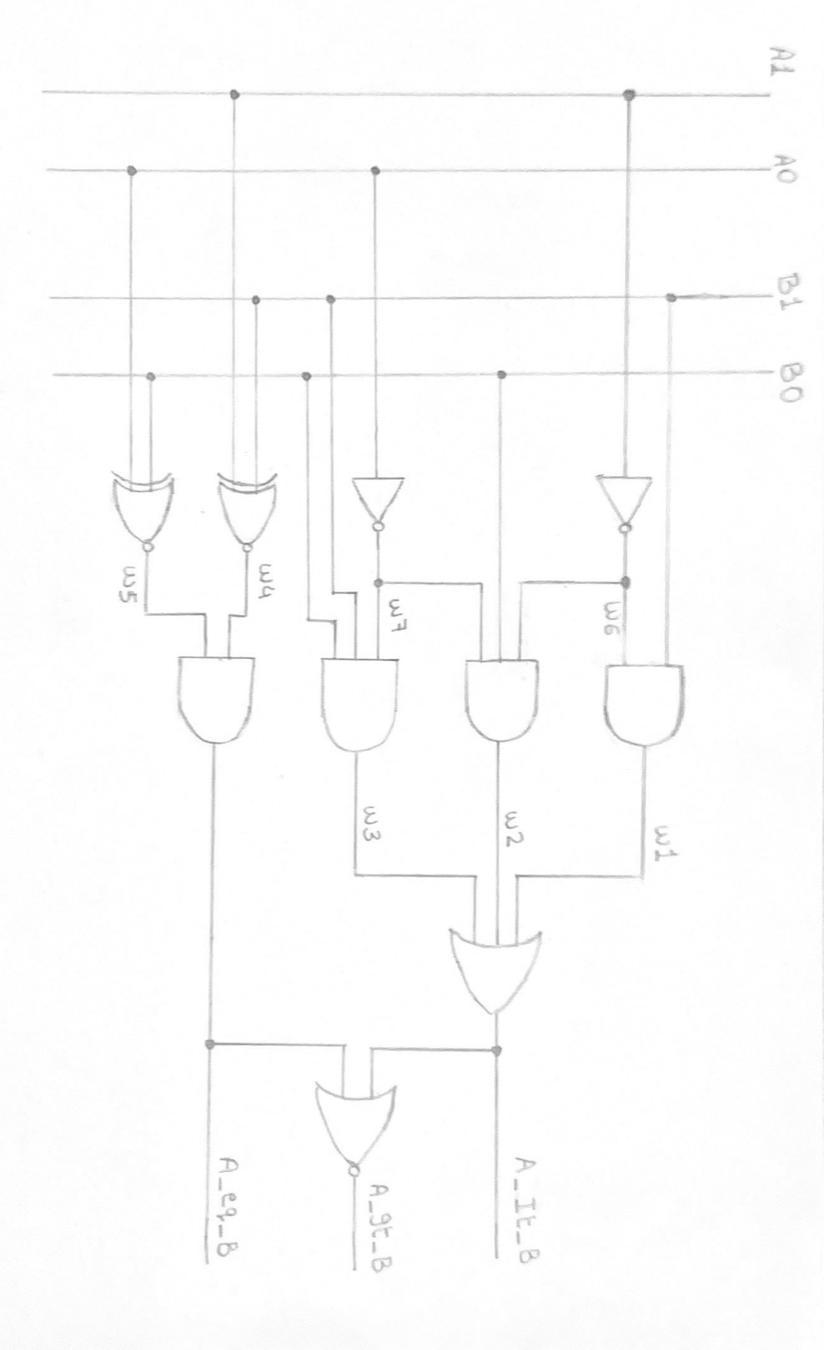AND: (305, 637, 418, 763), (168, 642, 270, 752), (450, 637, 551, 747), (600, 650, 698, 754)
NOR: (292, 1073, 409, 1187)
NOT: (580, 462, 657, 541), (352, 470, 416, 532)
OR: (430, 910, 567, 1026)
XNOR: (102, 455, 184, 553), (213, 465, 288, 561)
